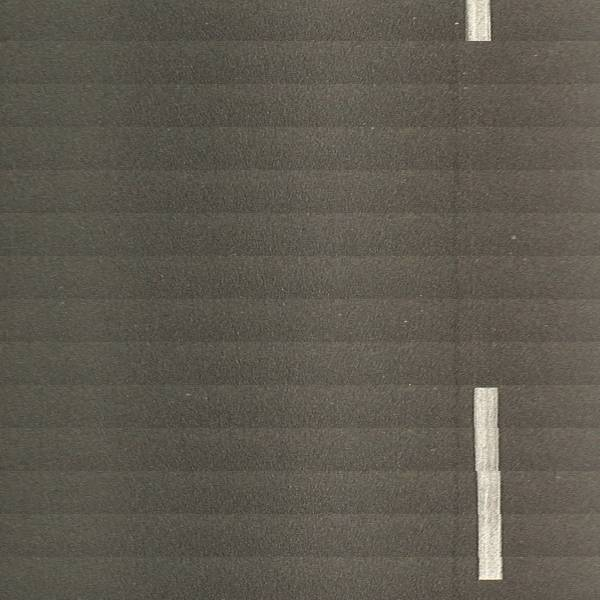road_damage: (448, 191, 464, 596)
